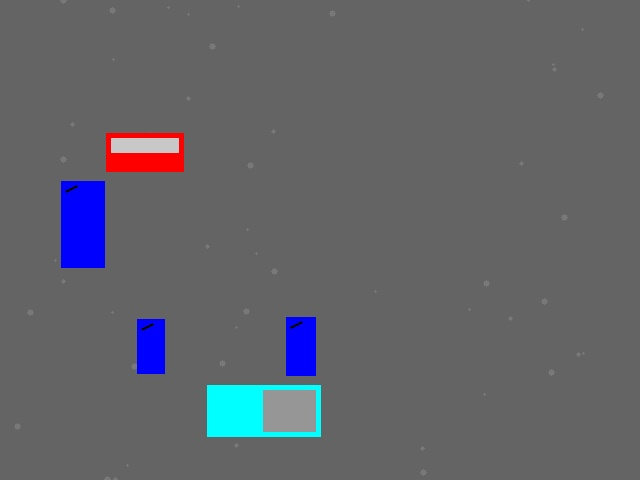car: (106, 133, 183, 171)
motorcycle: (61, 181, 104, 267), (286, 317, 315, 375), (137, 319, 164, 373)
truck: (207, 385, 320, 436)
